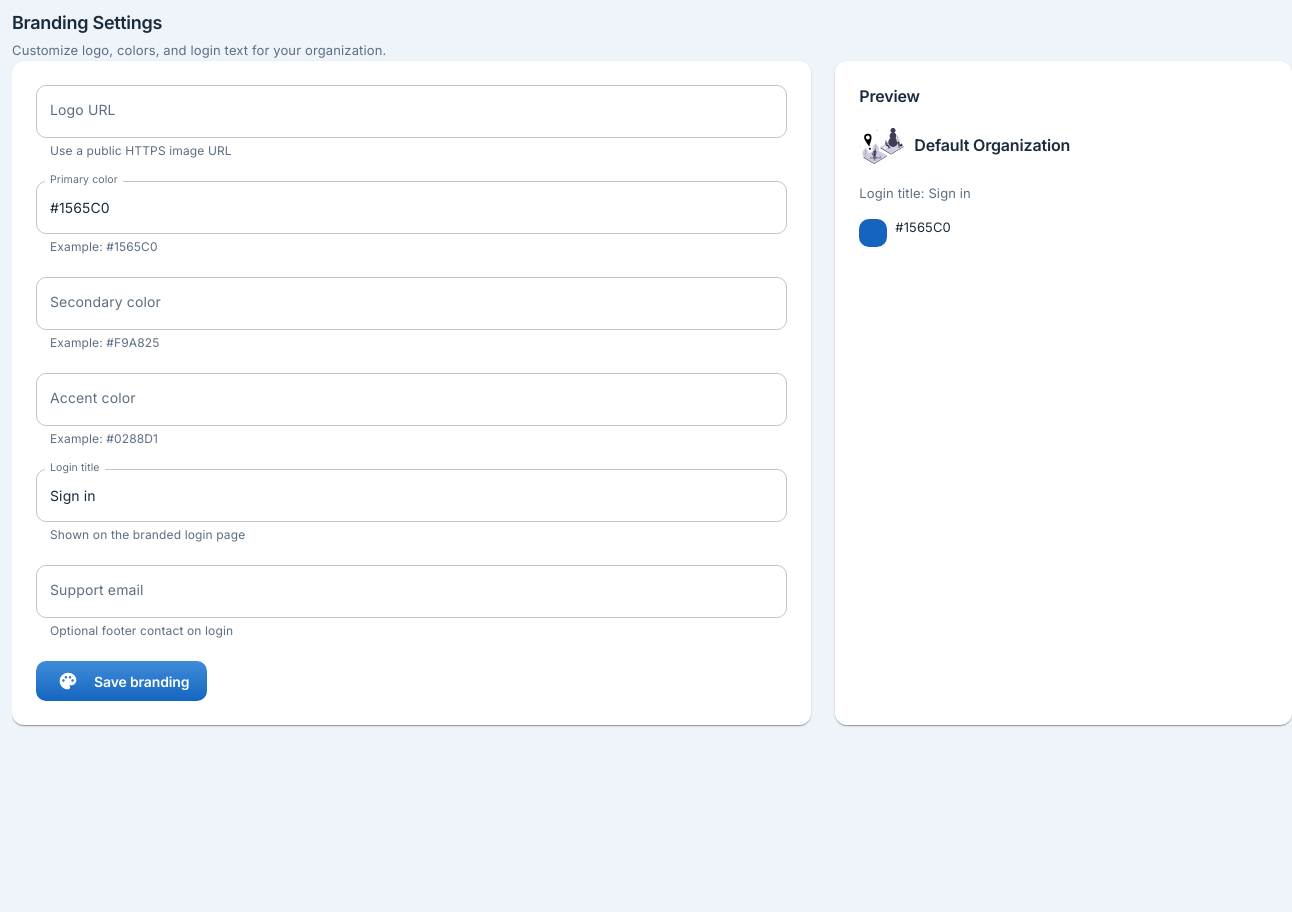
Test case: BrandingSettingsPage › shows validation error for invalid color
Replace the text in the field labelled "Primary color" with "blue": (412, 208) [36, 181, 787, 234]
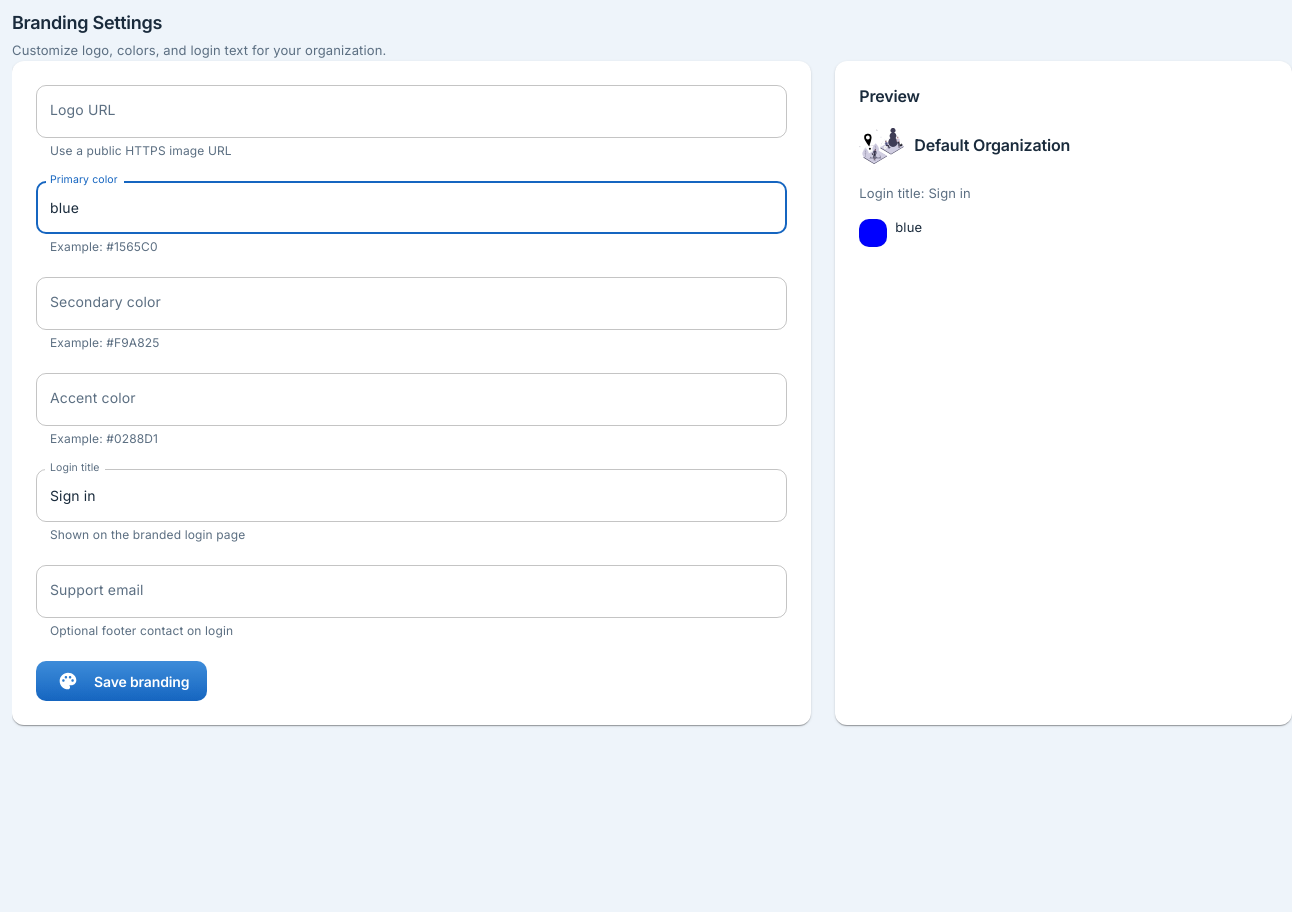
Click the button "Save branding": (122, 681) [36, 661, 207, 701]
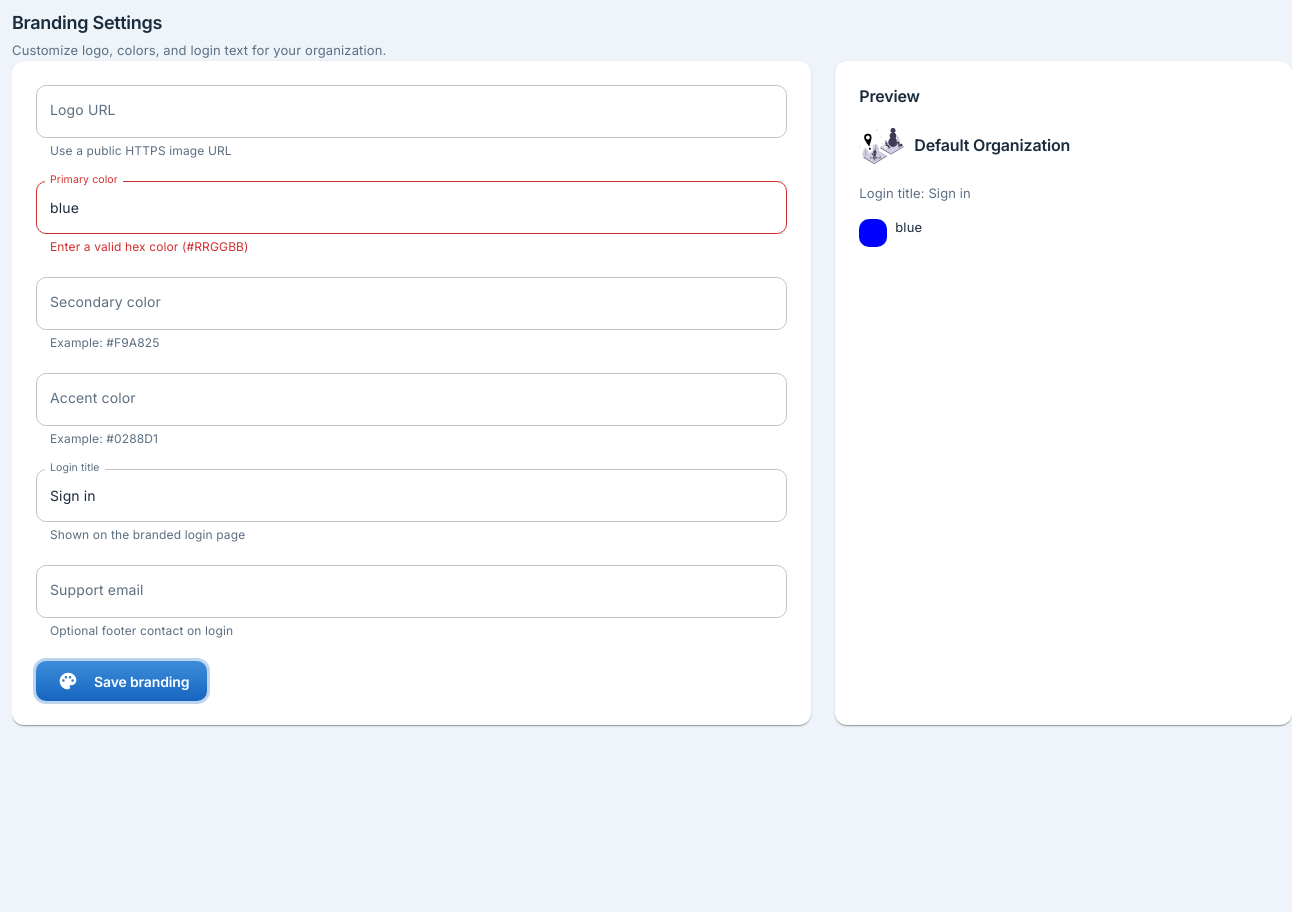
Expected: the text "Enter a valid hex color (#RRGGBB)" is shown, [50, 239, 249, 254]
